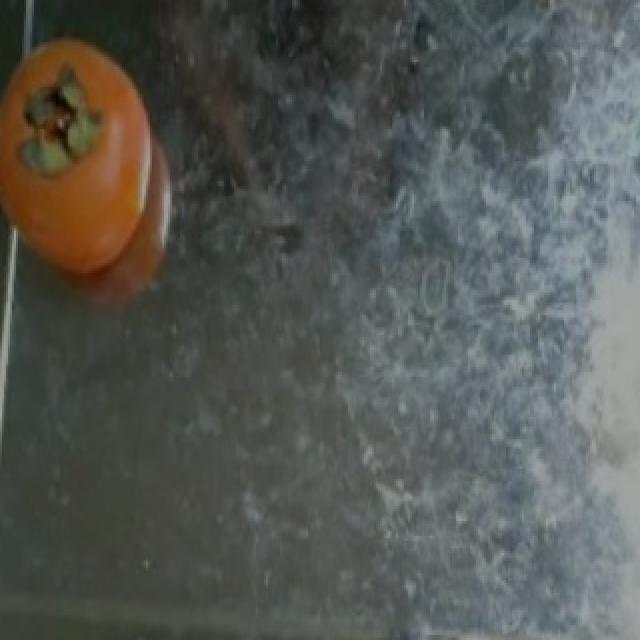Fruit: (0, 17, 184, 310)
